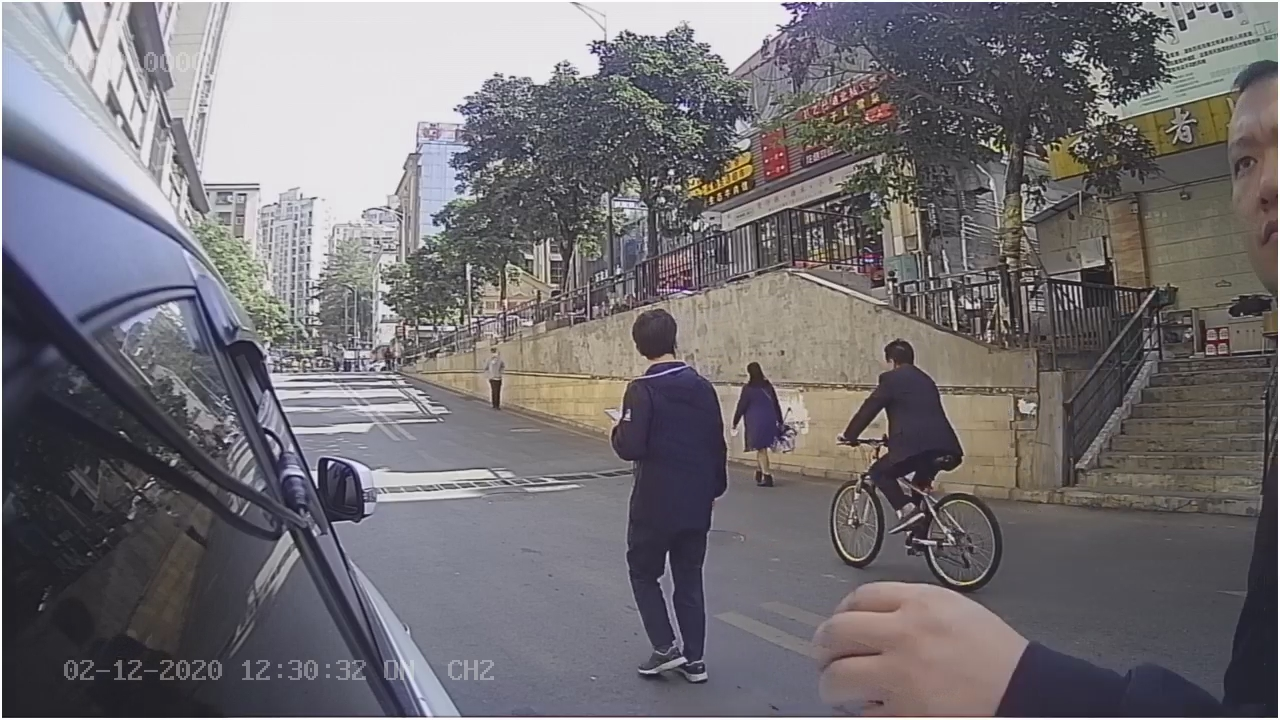person: (607, 301, 734, 686)
